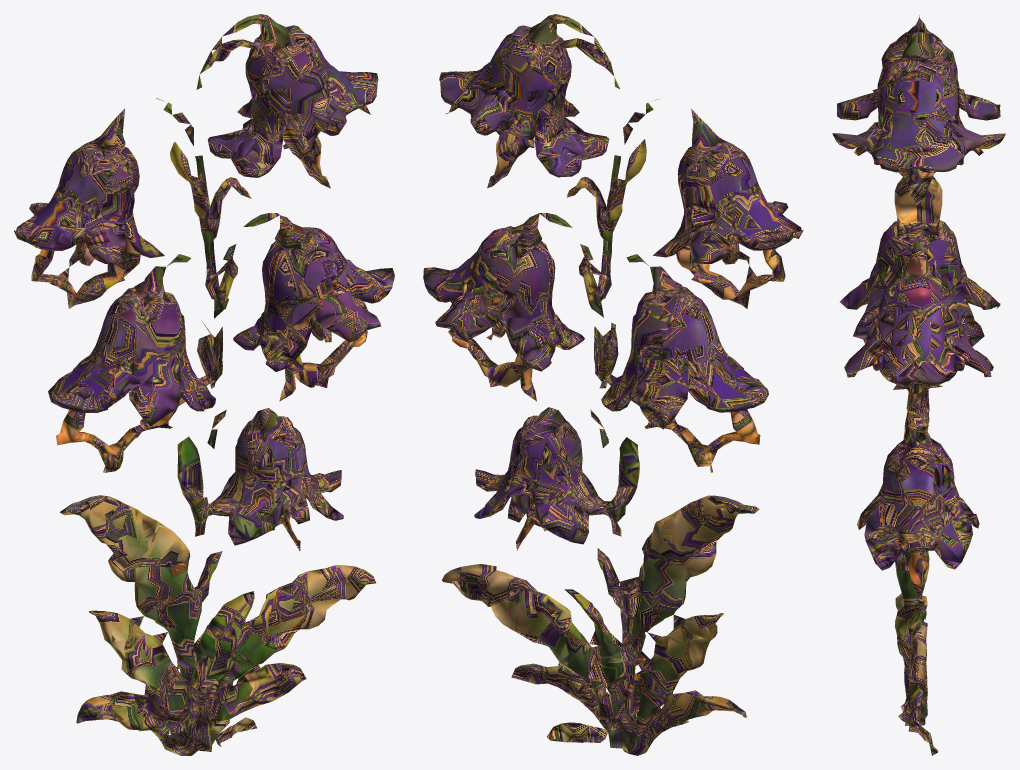
The picture shows the model from 3 angles, left to right: view 1: azimuth 30°, elevation 25°; view 2: azimuth 150°, elevation 25°; view 3: azimuth 270°, elevation 25°; orthographic projection.
Size of the model in its own units: 1.04 by 1.9 by 0.4098.
1 material, 1 textured.
